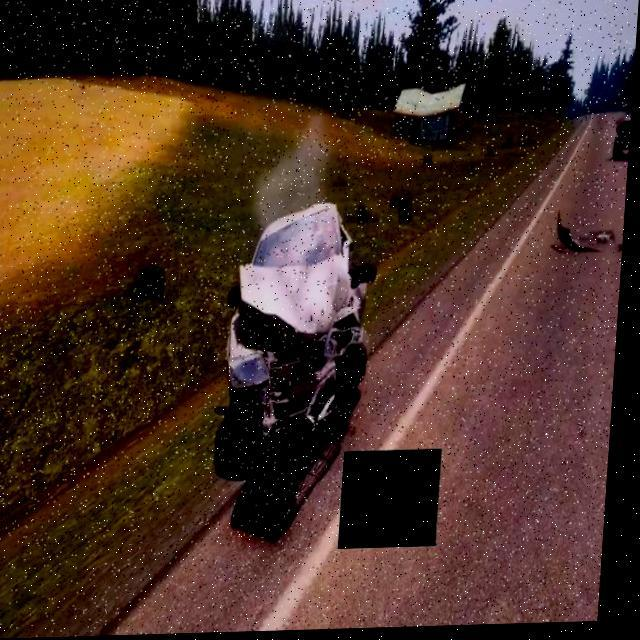multiple_accident: (162, 98, 417, 558), (557, 55, 640, 275)
